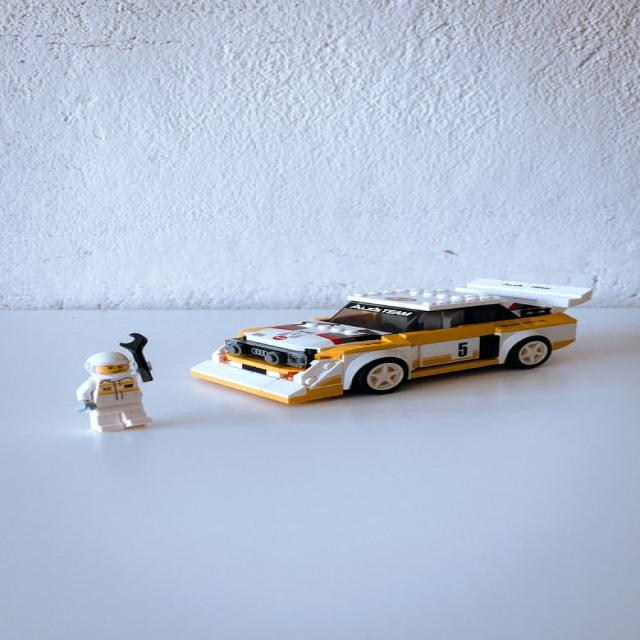Car: (188, 277, 593, 405)
